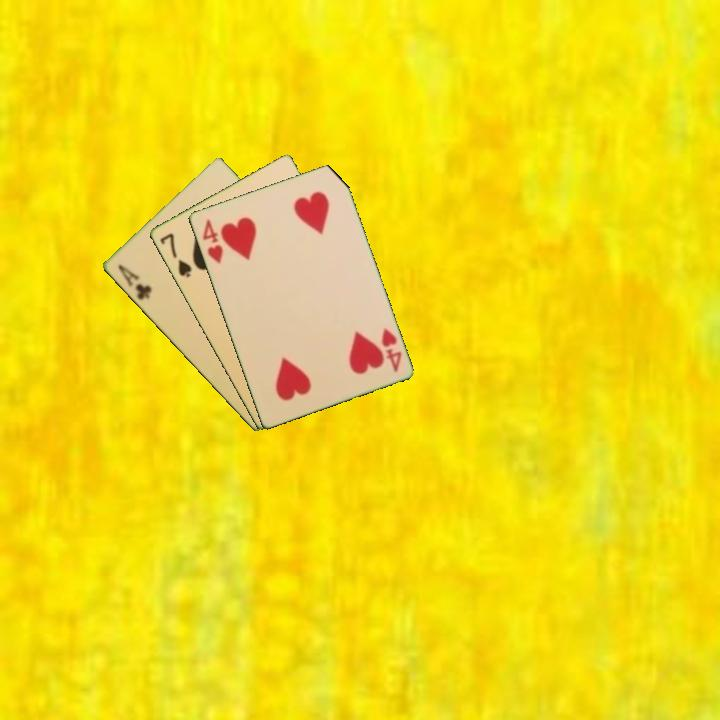4h: (377, 324, 404, 375), (199, 215, 225, 267)
7s: (156, 229, 194, 280)
Ac: (114, 261, 154, 303)
